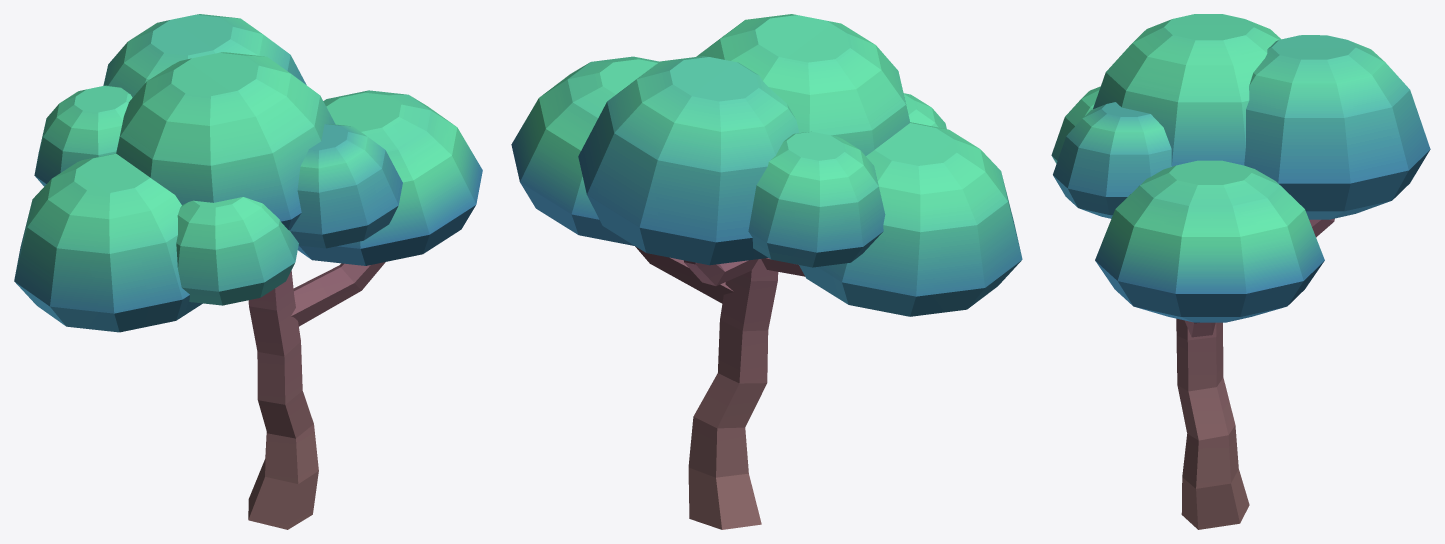
File: pretty_big_tree_4.gltf
The picture shows the model from 3 angles, left to right: view 1: azimuth 30°, elevation 25°; view 2: azimuth 150°, elevation 25°; view 3: azimuth 270°, elevation 25°; orthographic projection. The views are drawn at different scales.
Parts seen in each view (by area): view 1: Object_7; view 2: Object_7; view 3: Object_7.
Boxes of the visible parts, bbox=[...] form: Object_7: bbox=[14, 14, 482, 529]; Object_7: bbox=[511, 14, 1022, 529]; Object_7: bbox=[1051, 14, 1430, 529].
Size of the model in its own units: 14.01 by 14.28 by 10.58.
1 material, 1 textured.
